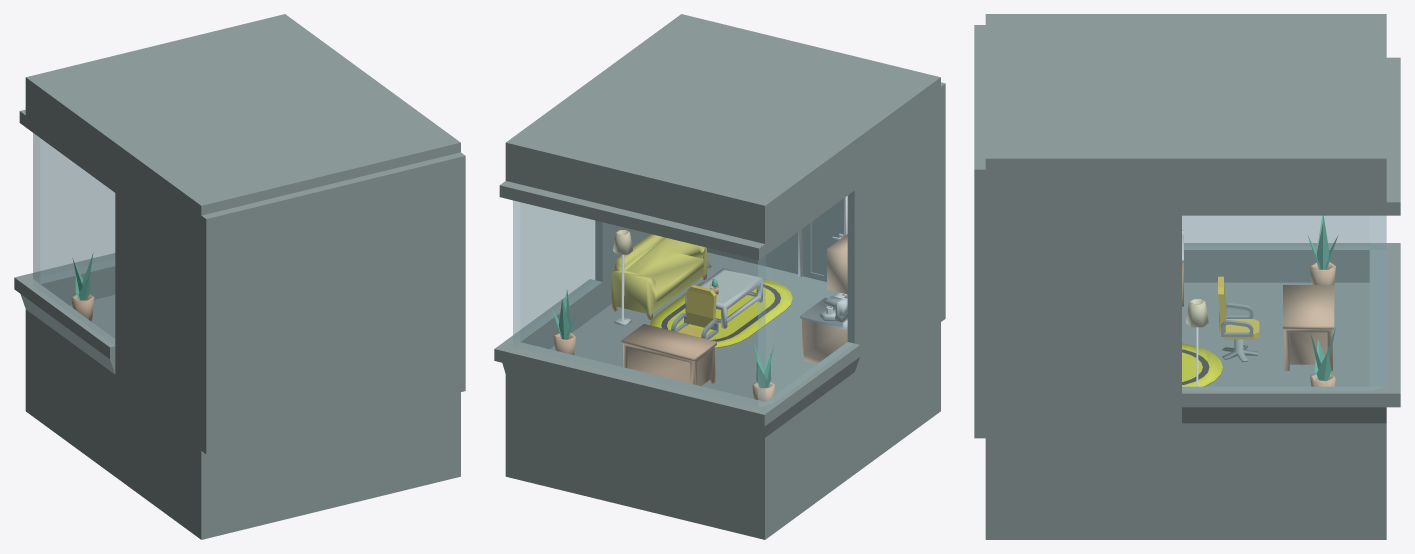
File: the_shop.glb
3 renders of one model, left to right at view 1: azimuth 30°, elevation 25°; view 2: azimuth 150°, elevation 25°; view 3: azimuth 270°, elevation 25°, orthographic. The views are drawn at different scales.
Visible parts, largest first — view 1: walls, back_wall, windows, pottedPlant; view 2: walls, windows, loungeSofa, desk, rugRounded, back_wall, kitchenCabinet, tableCoffeeGlass, doorwayFront, chairDesk, kitchenCabinetUpper, pottedPlant.001 (+3 smaller); view 3: walls, windows, back_wall, desk, chairDesk, rugRounded, pottedPlant, pottedPlant.001, lampRoundFloor.
Part boxes in pixels (left/top/right/bottom): walls: left=14, top=14, right=460, bottom=539; back_wall: left=201, top=152, right=465, bottom=454; windows: left=33, top=133, right=115, bottom=345; pottedPlant: left=71, top=253, right=94, bottom=321; walls: left=494, top=14, right=940, bottom=539; windows: left=513, top=192, right=854, bottom=406; loungeSofa: left=611, top=234, right=706, bottom=319; desk: left=621, top=324, right=716, bottom=385; rugRounded: left=650, top=278, right=792, bottom=348; back_wall: left=707, top=82, right=945, bottom=321; kitchenCabinet: left=800, top=298, right=847, bottom=363; tableCoffeeGlass: left=685, top=268, right=762, bottom=328; doorwayFront: left=798, top=196, right=847, bottom=281; chairDesk: left=671, top=285, right=718, bottom=339; kitchenCabinetUpper: left=827, top=234, right=847, bottom=294; pottedPlant.001: left=551, top=289, right=577, bottom=354; walls: left=985, top=14, right=1400, bottom=539; windows: left=1182, top=215, right=1386, bottom=390; back_wall: left=974, top=25, right=985, bottom=438; desk: left=1282, top=285, right=1334, bottom=370; chairDesk: left=1218, top=276, right=1259, bottom=362; rugRounded: left=1182, top=343, right=1222, bottom=386; pottedPlant: left=1307, top=215, right=1338, bottom=284; pottedPlant.001: left=1310, top=327, right=1335, bottom=386; lampRoundFloor: left=1186, top=299, right=1208, bottom=386.
Bounding box in the file's own units: 2.71 × 3.2 × 3.24.
